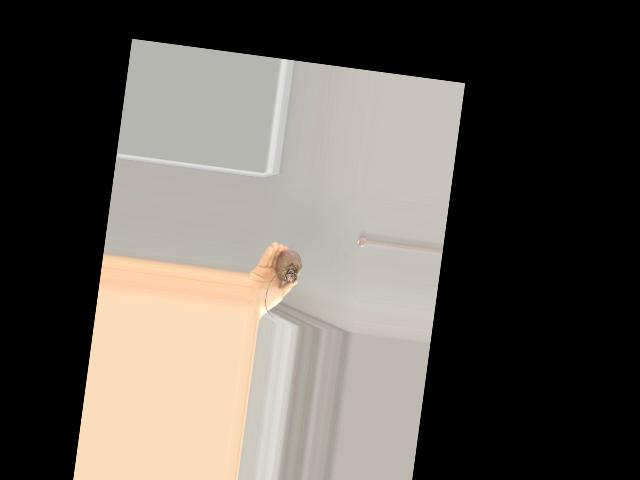beet: (262, 238, 304, 319)
